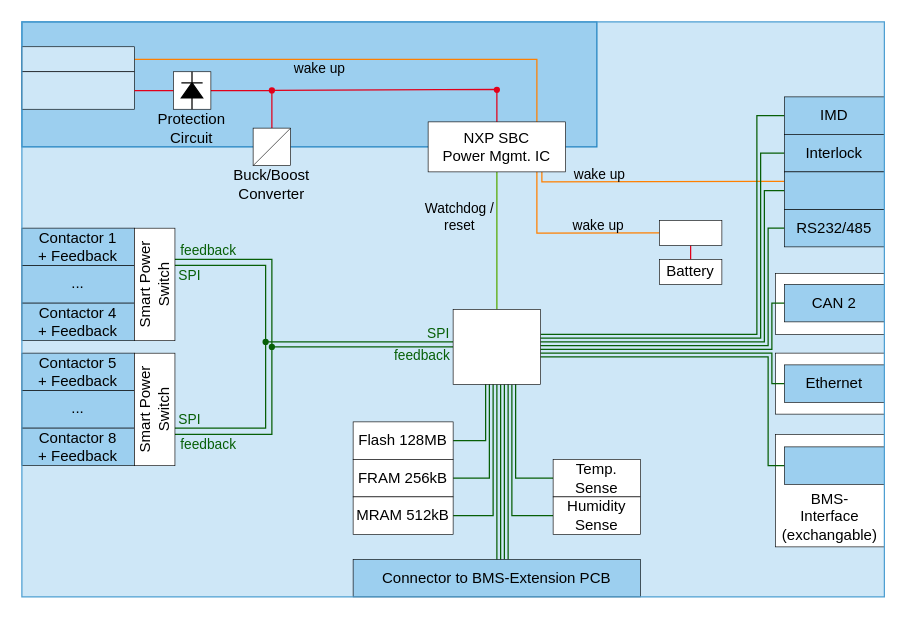
Image size: 906x619. Some labels were removed from this diagram. The shapes that lost their labels are listed below. From the top down, each one's centre as x and y in pixels, then its label:
(x=77, y=59): Ignition (KL15)
(x=77, y=90): Supply 6-60V
(x=834, y=190): CAN 1
(x=690, y=232): RTC
(x=496, y=346): MCU TI TMS570
(x=834, y=465): Daisy-Chain
